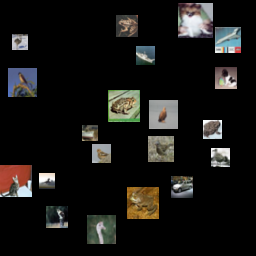airplane: (215, 27, 241, 53), (39, 173, 55, 189)
automobile: (171, 176, 193, 198)
bird: (87, 215, 116, 244), (149, 100, 178, 129), (8, 68, 37, 97), (148, 136, 174, 162), (92, 144, 111, 163), (211, 148, 230, 167), (12, 34, 28, 50)
cat: (0, 165, 32, 197), (46, 206, 68, 228)
dog: (178, 3, 213, 38), (215, 67, 237, 89)
frog: (127, 187, 159, 219), (108, 90, 140, 122), (116, 15, 138, 37), (203, 120, 222, 139)
ship: (136, 46, 155, 65), (82, 125, 98, 141)
